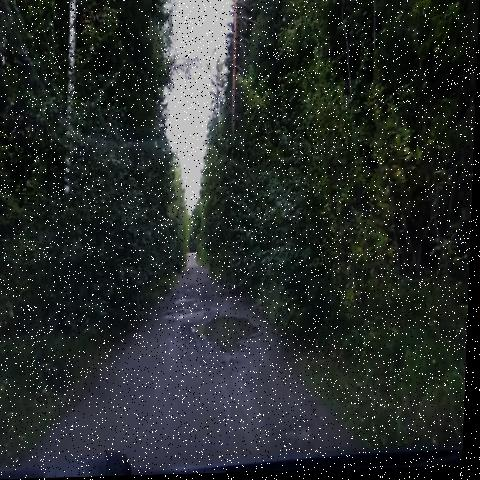pothole: (185, 306, 267, 361), (161, 288, 203, 325)
